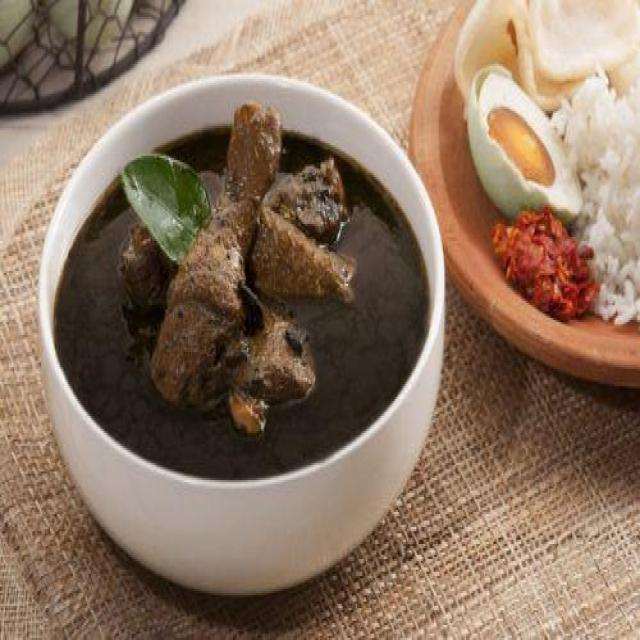Rawon: (41, 117, 430, 462)
